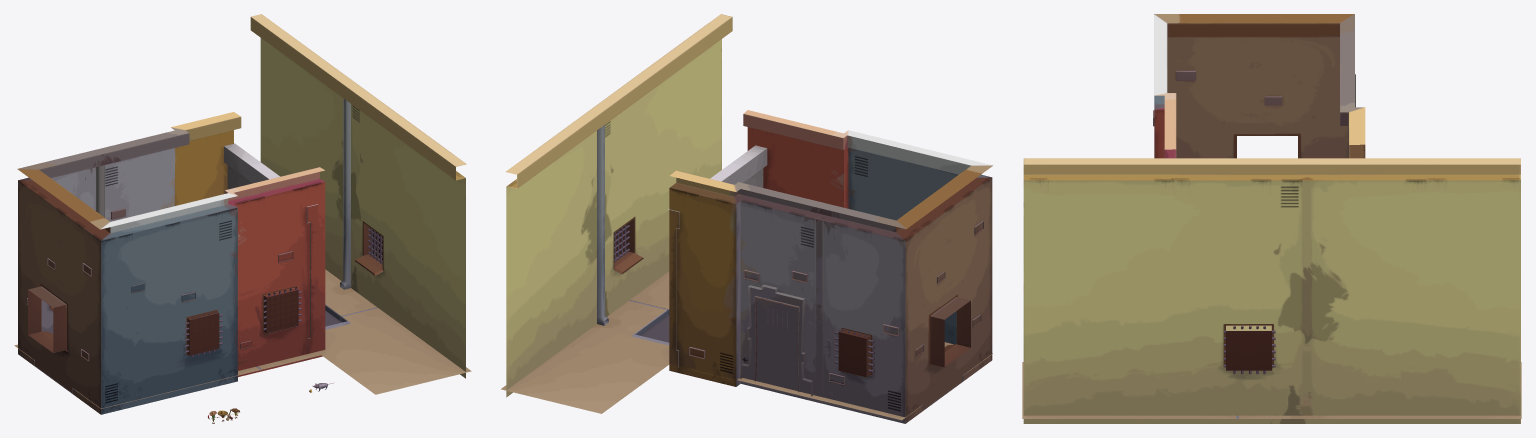
The model's file is SuarezM_PII_HarvestHero_Texturizado_Calle.fbx.
3 views of the same model, side by side, from view 1: azimuth 30°, elevation 25°; view 2: azimuth 150°, elevation 25°; view 3: azimuth 270°, elevation 25° (orthographic). The views are drawn at different scales.
Visible parts, largest first — view 1: Paredes_1, Paredes_2; view 2: Paredes_1, Paredes_2; view 3: Paredes_1, Paredes_2.
Part boxes in pixels (x1,y1,x2,y2): Paredes_1: (17,14,466,414); Paredes_2: (14,143,471,408); Paredes_1: (506,14,992,423); Paredes_2: (501,145,992,420); Paredes_1: (1023,14,1520,423); Paredes_2: (1022,362,1521,418).
Bounding box in the file's own units: 15544 × 10337 × 16619.
Materials: 8 (8 with a texture image).
